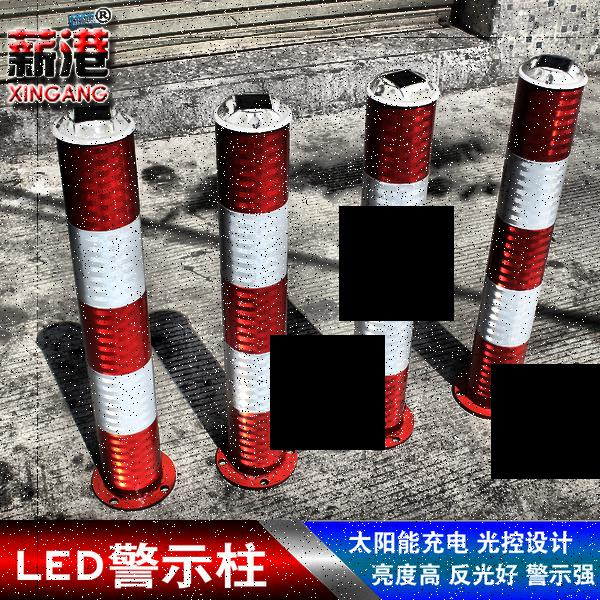bench: (205, 88, 305, 492), (344, 68, 441, 447)
